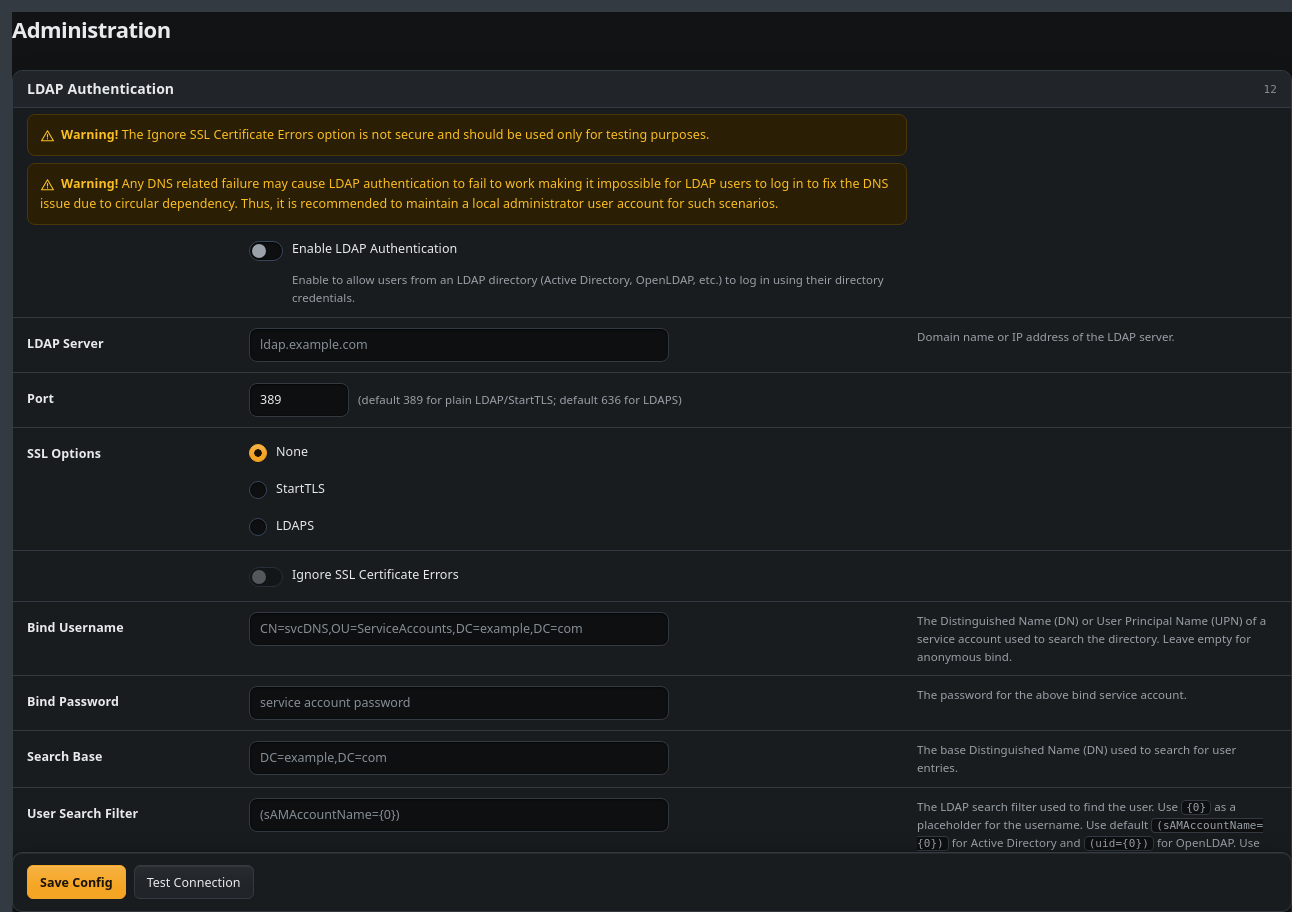
LDAP: enable rules, on load and on change › Ignore SSL is disabled with None and enabled with StartTLS or LDAPS
Check: the checkbox labelled "Ignore SSL Certificate Errors" is disabled, box left=249, top=567, right=283, bottom=587
Step 1. Click the radio button labelled "StartTLS" → (258, 490), box left=249, top=481, right=267, bottom=499
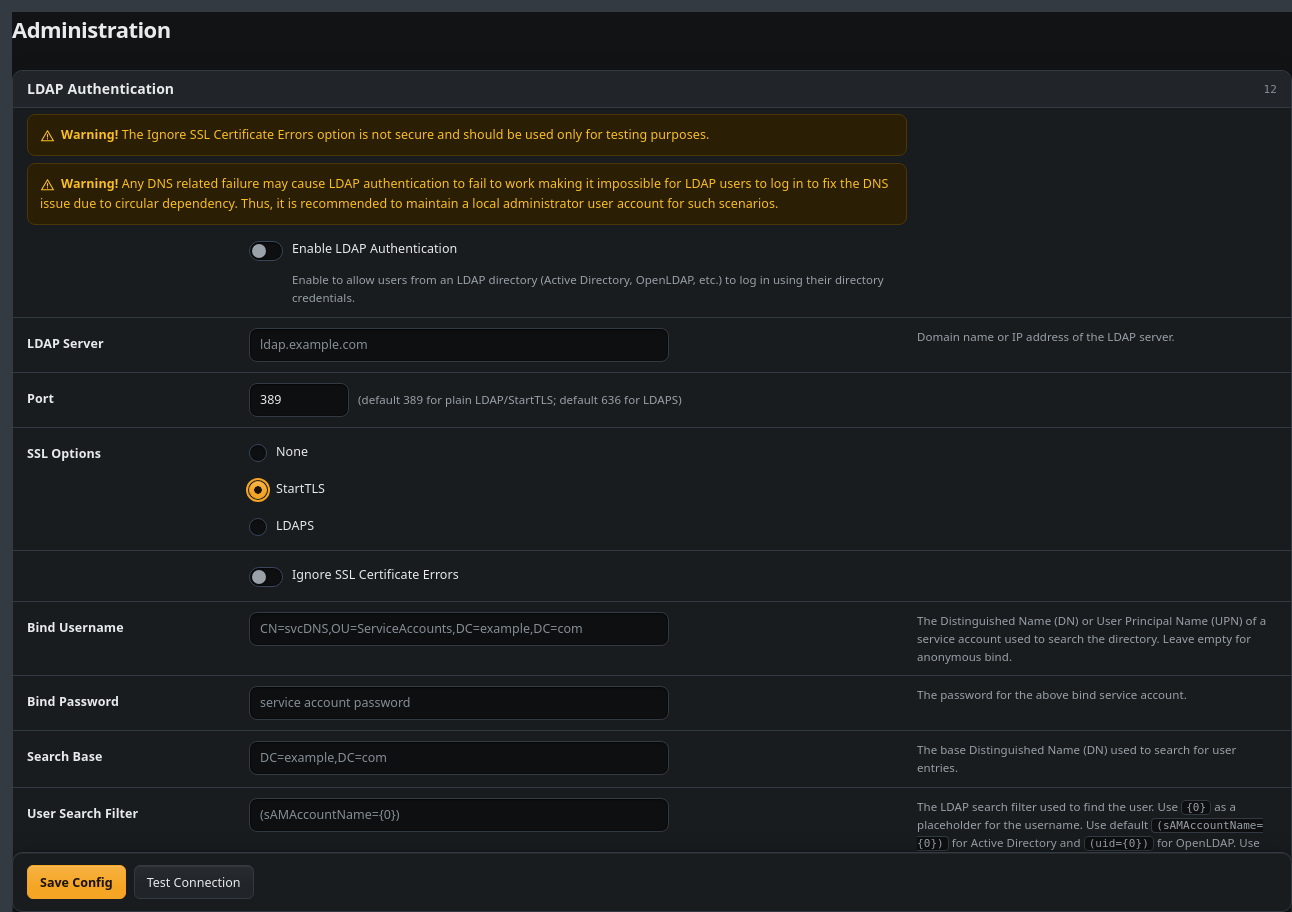
Check: the checkbox labelled "Ignore SSL Certificate Errors" is enabled, box left=249, top=567, right=283, bottom=587
Step 2. Click the radio button labelled "LDAPS" → (258, 527), box left=249, top=518, right=267, bottom=536
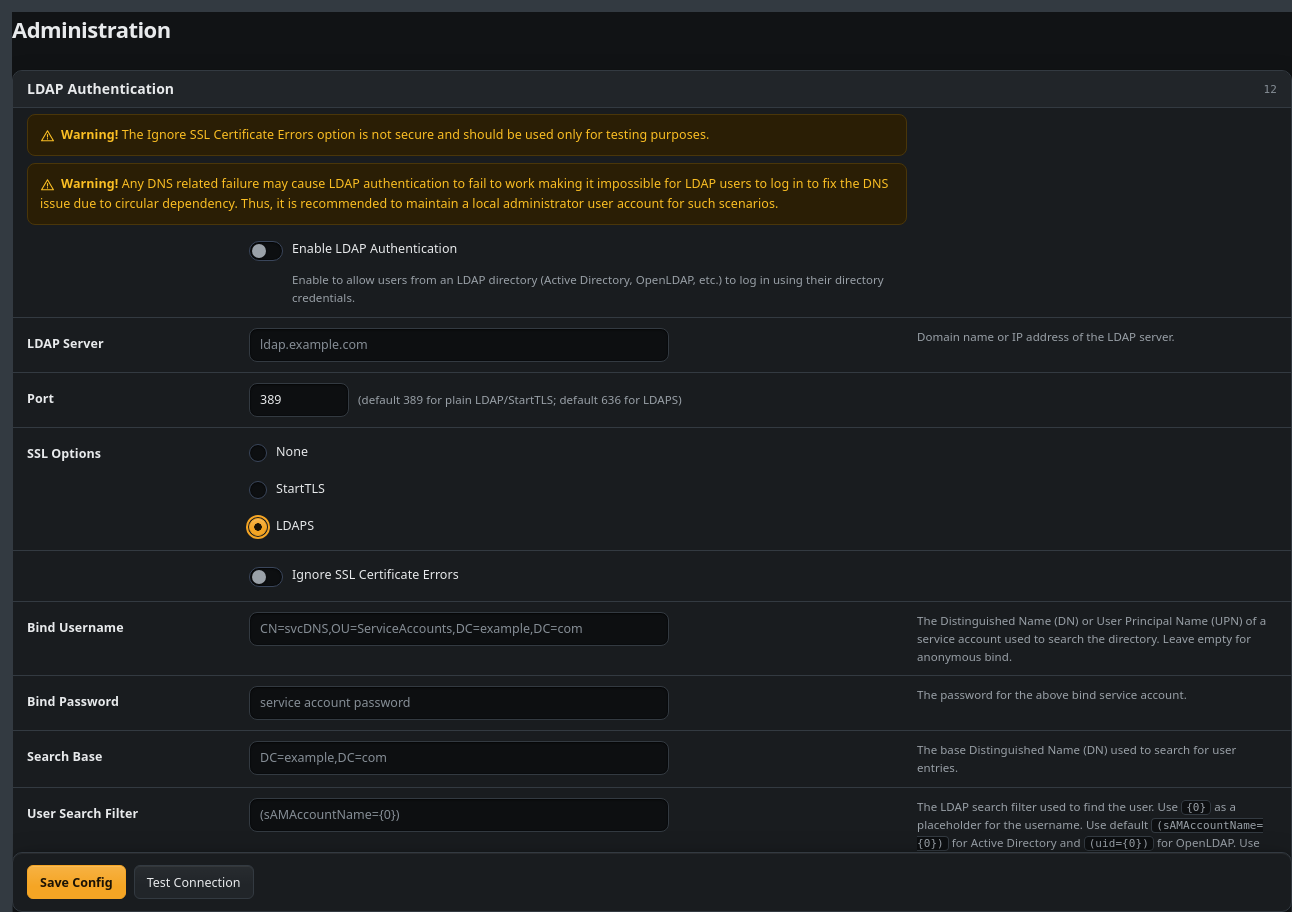
Check: the checkbox labelled "Ignore SSL Certificate Errors" is enabled, box left=249, top=567, right=283, bottom=587
Step 3. Click the radio button labelled "None" → (258, 453), box left=249, top=444, right=267, bottom=462
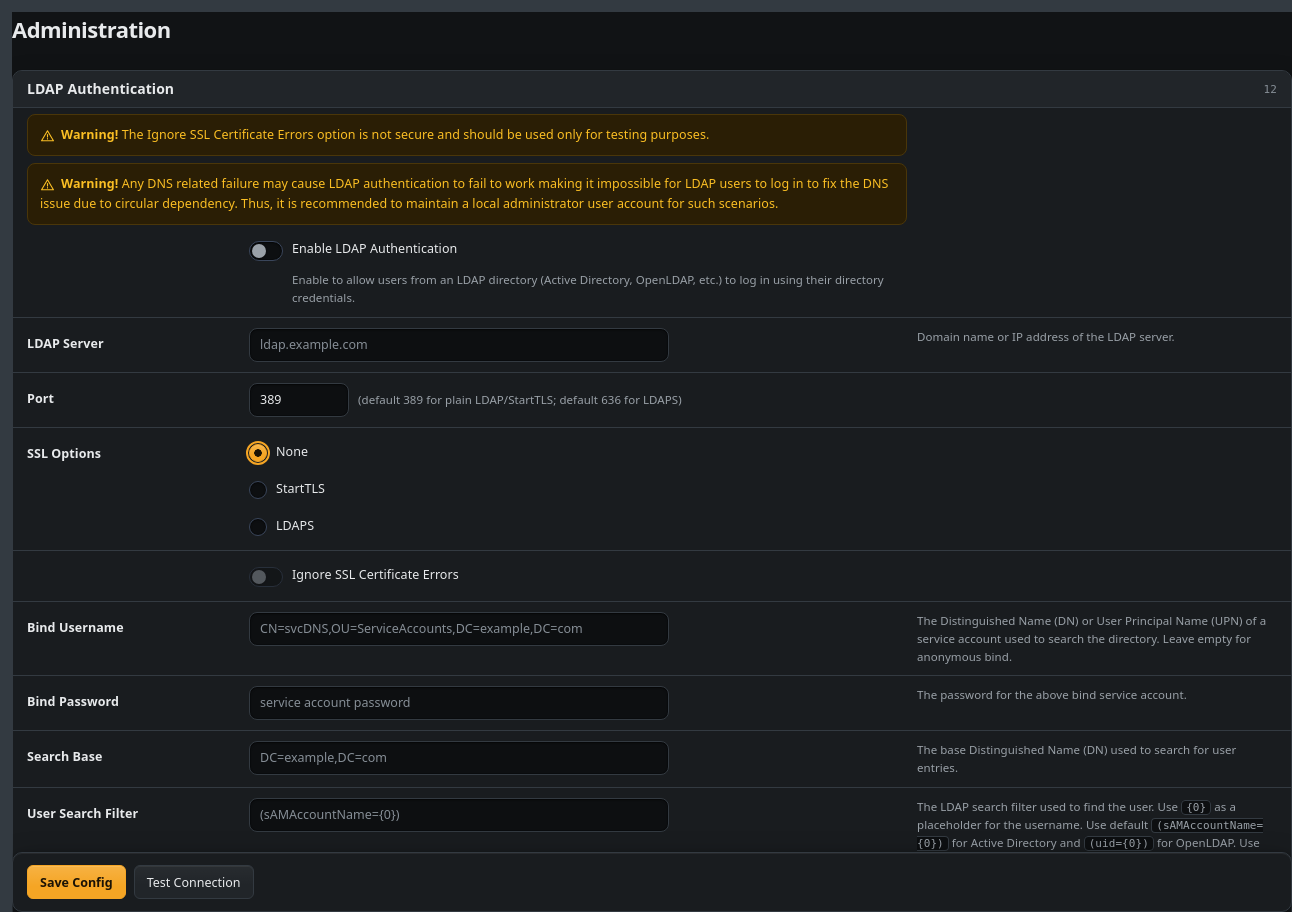
Check: the checkbox labelled "Ignore SSL Certificate Errors" is disabled, box left=249, top=567, right=283, bottom=587
